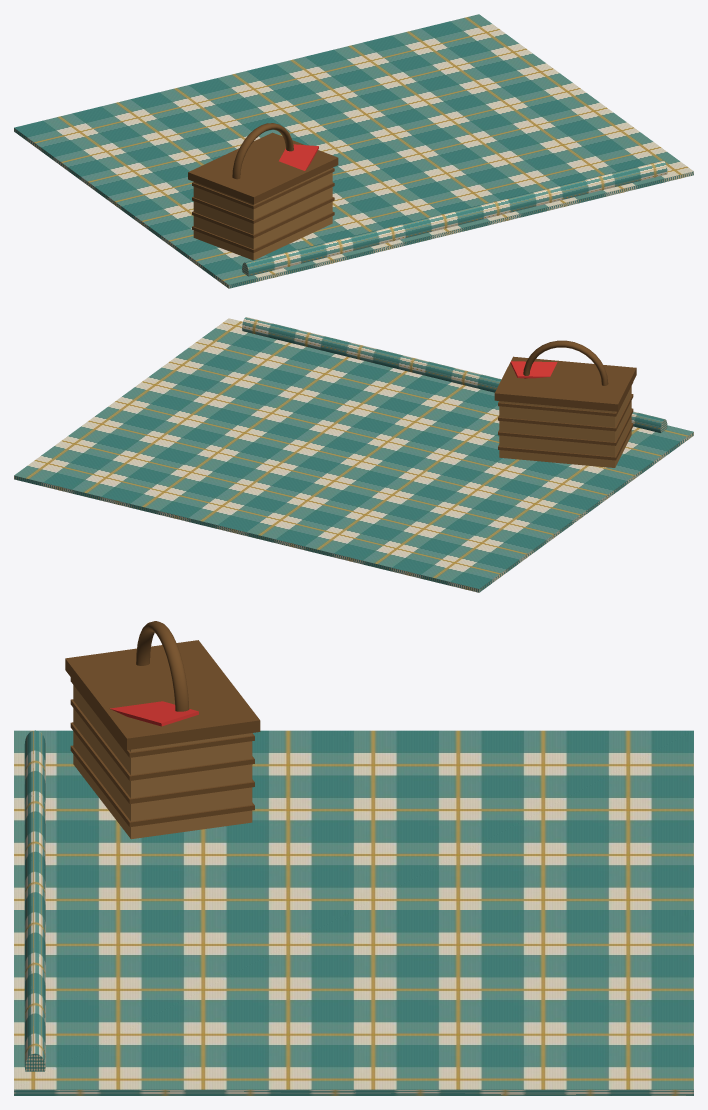
The model's file is plugin-mvmtrl4q-ln1i.glb.
The picture shows the model from 3 angles, top to bottom: view 1: azimuth 30°, elevation 25°; view 2: azimuth 150°, elevation 25°; view 3: azimuth 270°, elevation 25°; orthographic projection. The views are drawn at different scales.
Parts seen in each view (by area): view 1: picnic-part (×10); view 2: picnic-part (×10); view 3: picnic-part (×10).
Part boxes in pixels (x1,y1,x2,y2): picnic-part (×10): (14,14,693,288); picnic-part (×10): (14,317,693,592); picnic-part (×10): (14,621,693,1095).
Bounding box in the file's own units: 2 × 0.455 × 1.6.
4 materials, 1 textured.
